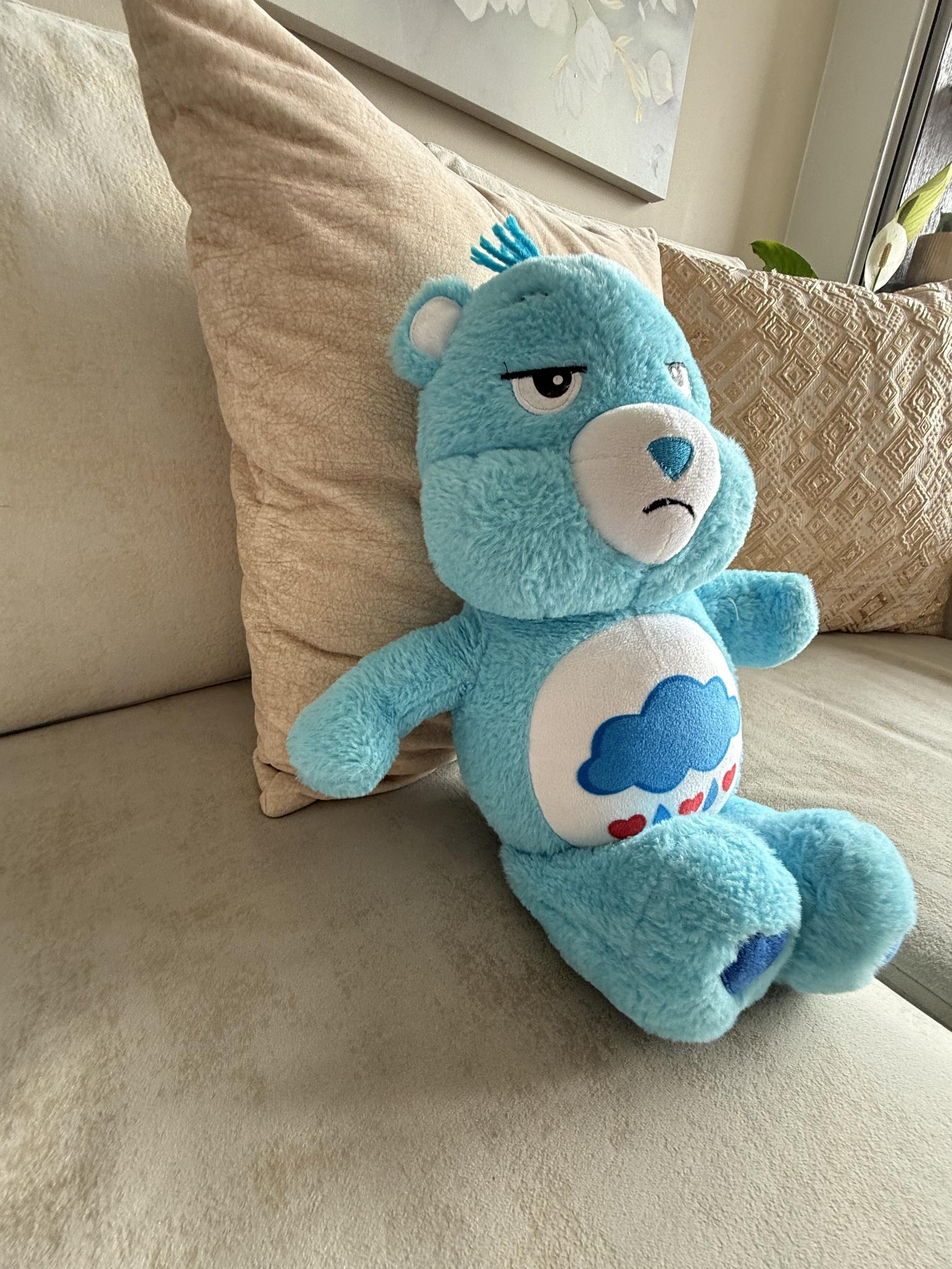peluche_Juan Jose: (285, 215, 918, 1042)
